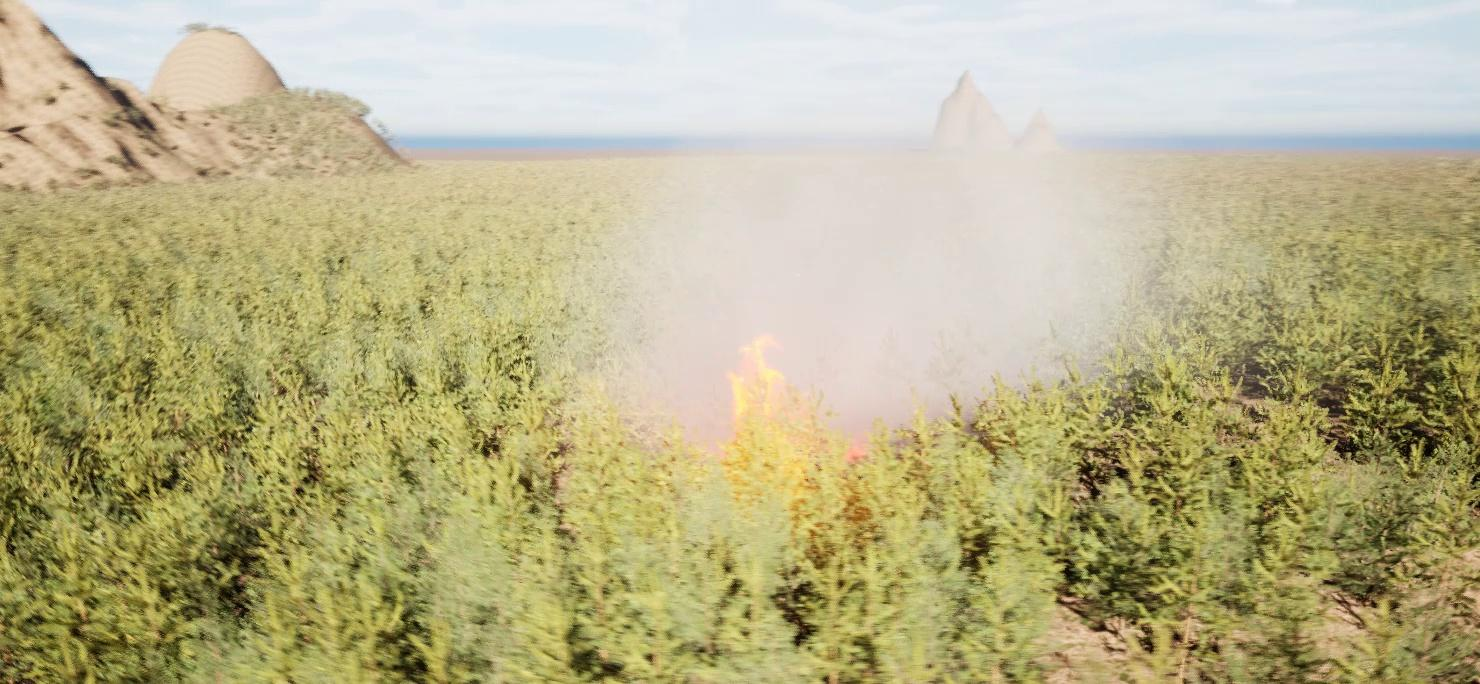fire: (710, 329, 822, 449)
smoke: (568, 55, 1213, 443)
